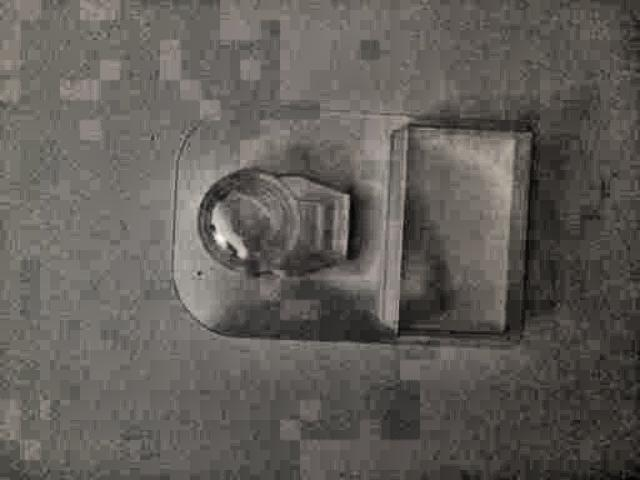Plastic: (152, 92, 546, 355)
